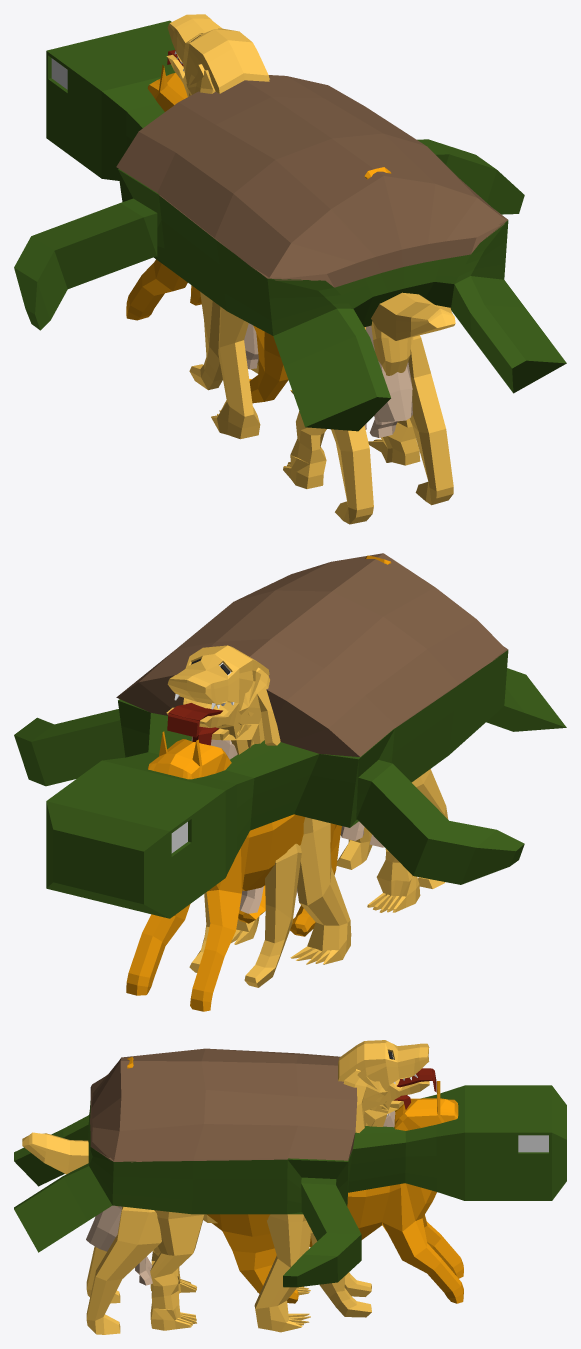
The model's file is Dyrene.fbx.
3 renders of one model, top to bottom at view 1: azimuth 30°, elevation 25°; view 2: azimuth 150°, elevation 25°; view 3: azimuth 270°, elevation 25°, orthographic. The views are drawn at different scales.
Parts seen in each view (by area): view 1: Turtle, HUND 2, Hund, kat, hest; view 2: Turtle, kat, HUND 2, Hund, hest; view 3: Turtle, HUND 2, kat, Hund, hest.
Boxes of the visible parts, box(x1,y1,x2,y2) form: Turtle: box(14, 20, 566, 431); HUND 2: box(166, 14, 455, 524); Hund: box(186, 70, 420, 488); kat: box(126, 65, 391, 403); hest: box(244, 323, 412, 437); Turtle: box(14, 553, 566, 918); kat: box(126, 555, 391, 1011); HUND 2: box(166, 645, 448, 987); Hund: box(186, 667, 420, 964); hest: box(191, 736, 384, 913); Turtle: box(14, 1048, 566, 1287); HUND 2: box(22, 1040, 436, 1334); kat: box(127, 1057, 463, 1303); Hund: box(150, 1069, 410, 1332); hest: box(86, 1111, 395, 1285).
Bounding box in the file's own units: 1760 × 1196 × 2193.
